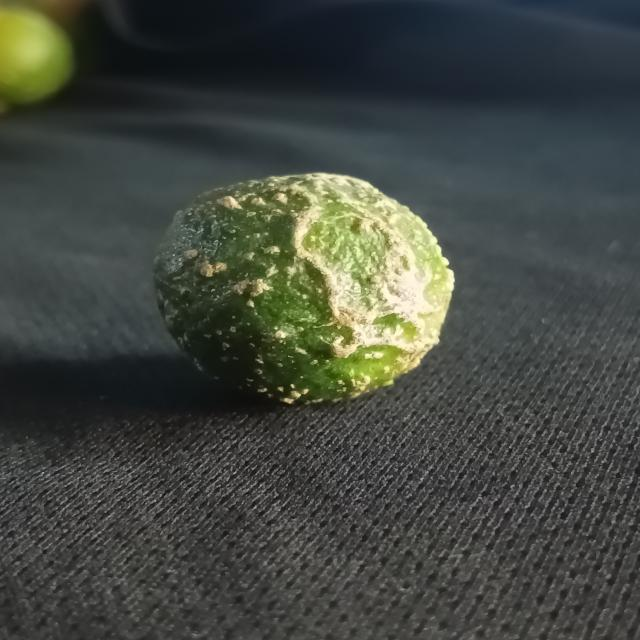scab: (147, 166, 462, 407)
